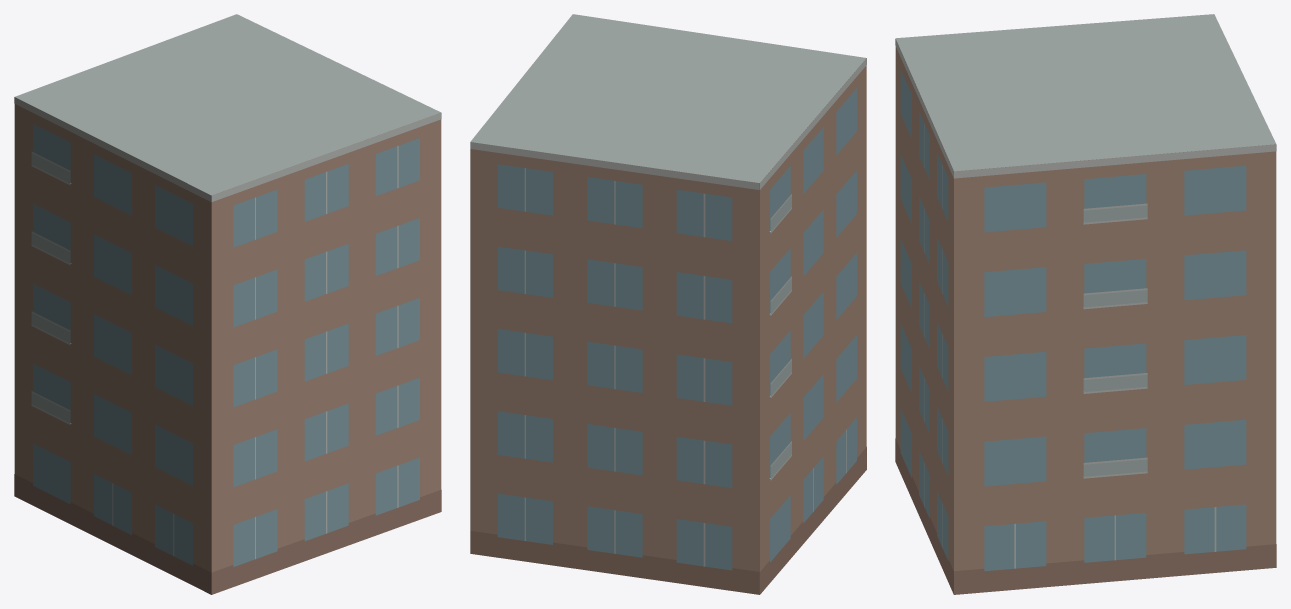
File: survey-upis-32740407.glb
3 views of the same model, side by side, from view 1: azimuth 30°, elevation 25°; view 2: azimuth 150°, elevation 25°; view 3: azimuth 270°, elevation 25° (orthographic). The views are drawn at different scales.
Visible parts, largest first — view 1: survey-upis-32740407.tmp; view 2: survey-upis-32740407.tmp; view 3: survey-upis-32740407.tmp.
Boxes of the visible parts, left/top/right/bottom form: survey-upis-32740407.tmp: left=14, top=14, right=441, bottom=594; survey-upis-32740407.tmp: left=470, top=14, right=866, bottom=594; survey-upis-32740407.tmp: left=895, top=14, right=1276, bottom=594.
Size of the model in its own units: 11.53 by 14.45 by 11.79.
